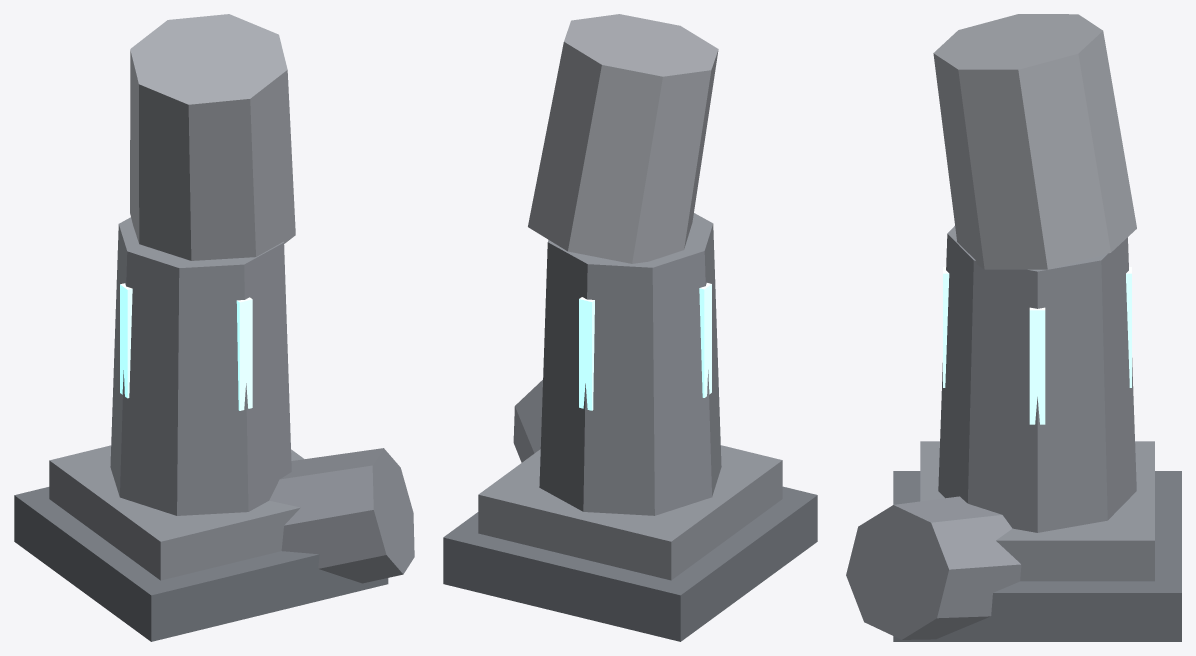
Rendered from prop_pillar.glb.
The picture shows the model from 3 angles, left to right: view 1: azimuth 30°, elevation 25°; view 2: azimuth 150°, elevation 25°; view 3: azimuth 270°, elevation 25°; orthographic projection. The views are drawn at different scales.
Parts seen in each view (by area): view 1: Pillar; view 2: Pillar; view 3: Pillar.
Boxes of the visible parts, bbox=[...] form: Pillar: bbox=[14, 14, 414, 641]; Pillar: bbox=[443, 14, 817, 641]; Pillar: bbox=[846, 14, 1181, 641].
Size of the model in its own units: 0.7637 by 1.39 by 0.7445.
